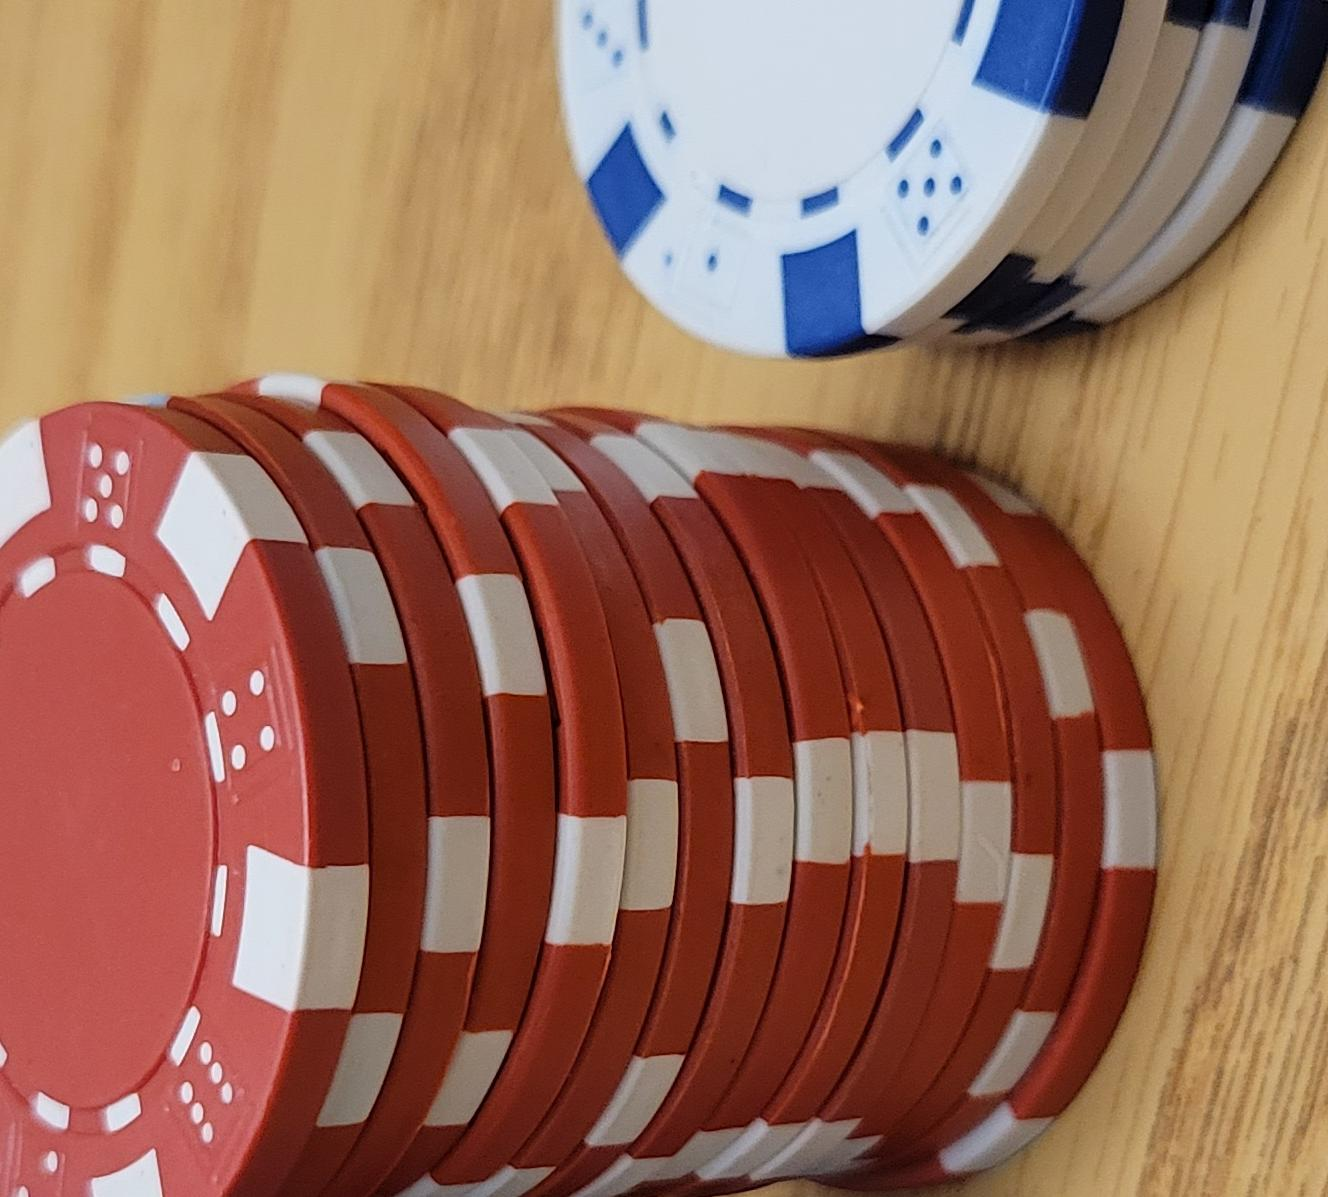Chip: (1, 241, 673, 1197)
